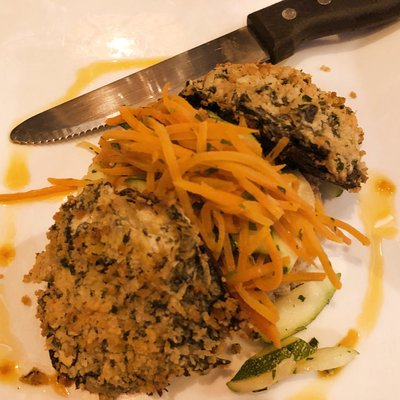sandwich: (9, 16, 279, 146), (246, 0, 400, 65)
